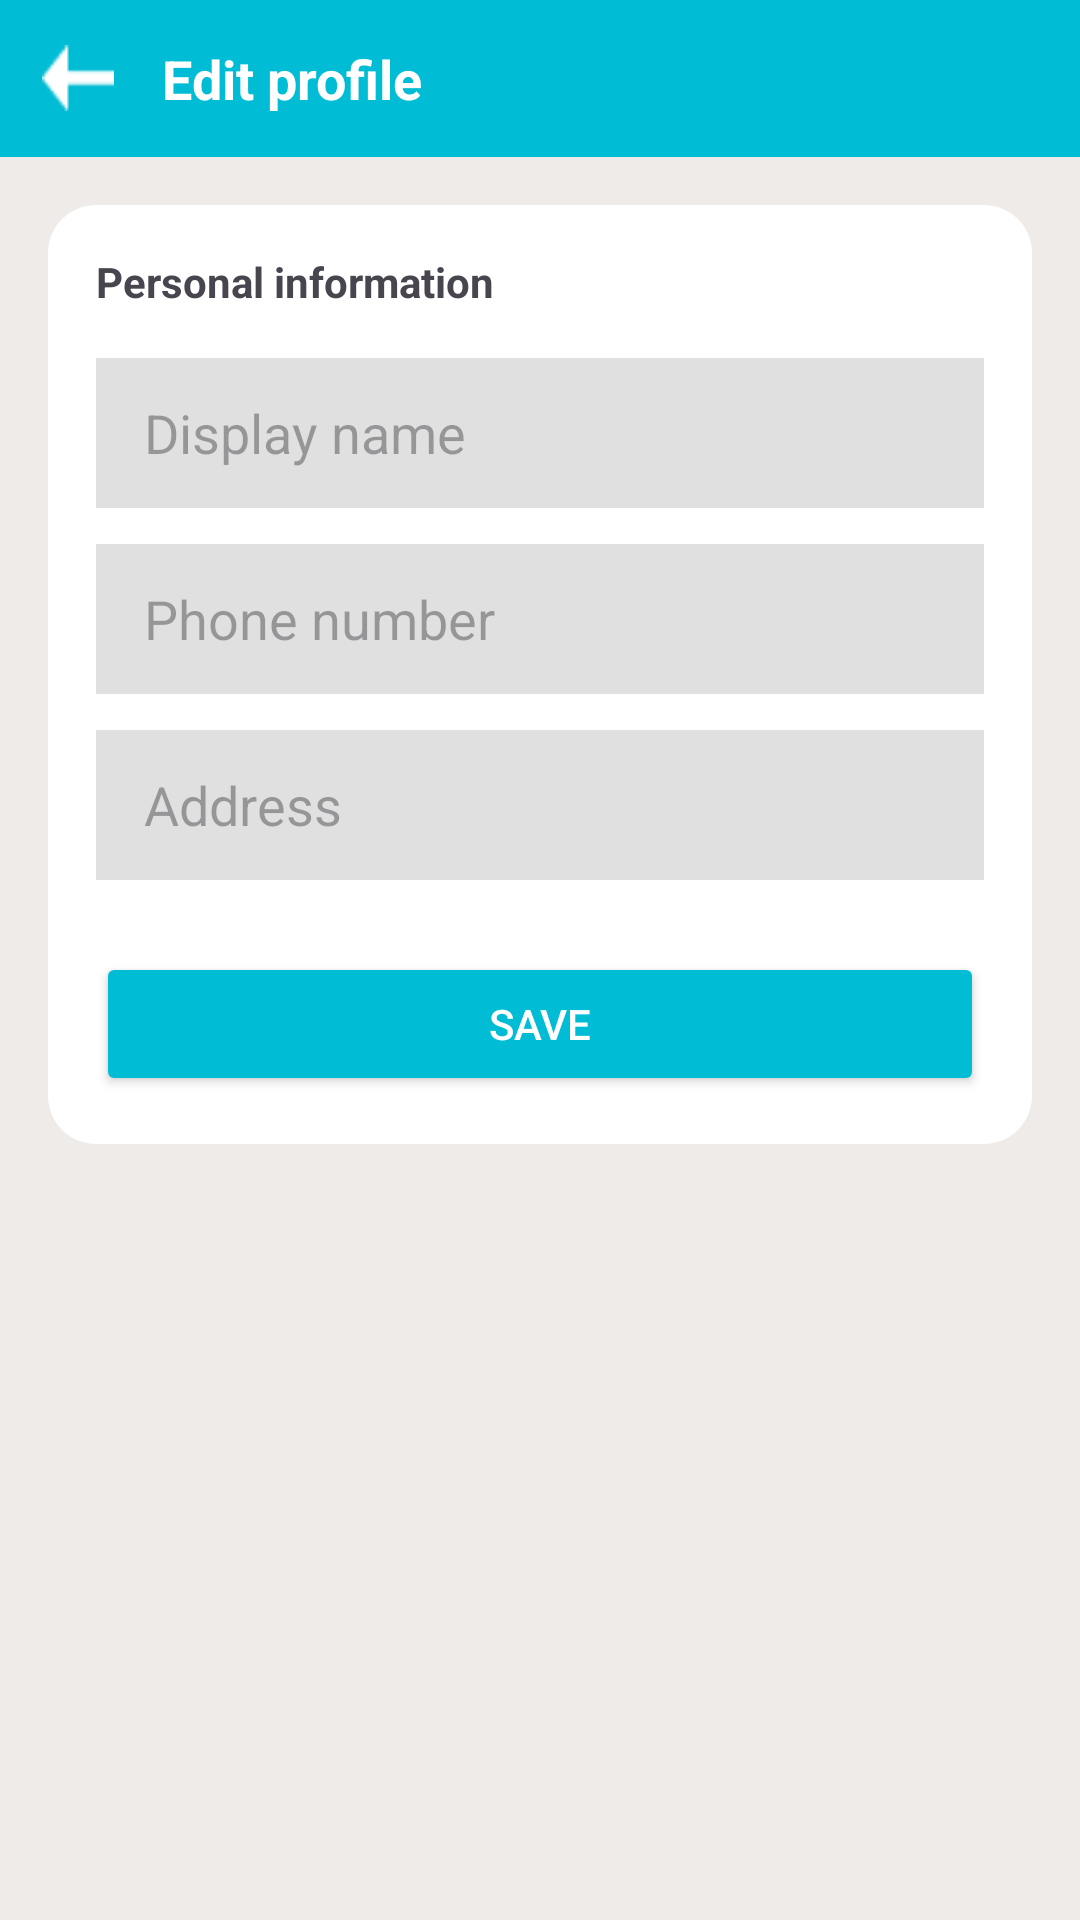

Icons on this 1080w x 1920h Android screen, each with its box as {"x1": x1, "y1": y1, "x2": x2, "y2": y2}:
activity back: {"x1": 42, "y1": 45, "x2": 114, "y2": 111}
